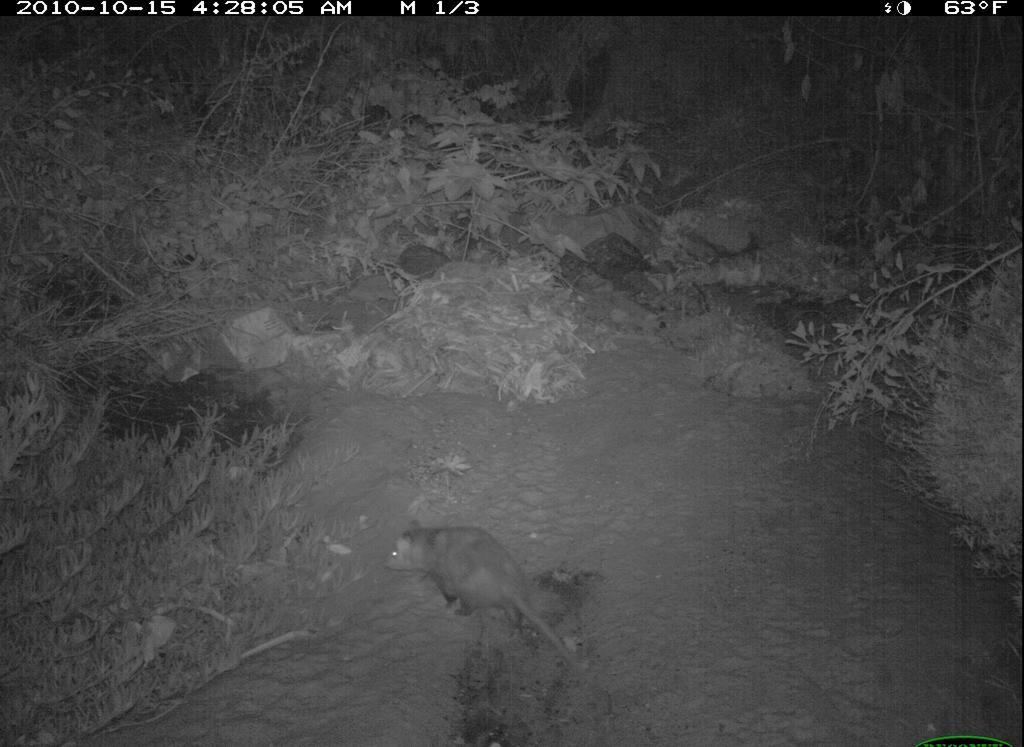opossum: (358, 510, 592, 683)
